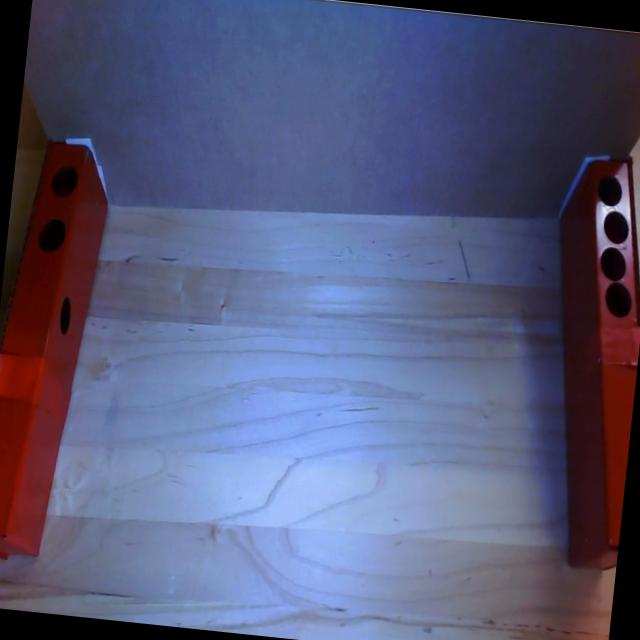Hole: (600, 279, 636, 322), (596, 244, 630, 282), (594, 168, 625, 208), (38, 217, 68, 256), (600, 210, 631, 247), (50, 163, 79, 200), (54, 292, 74, 336)
